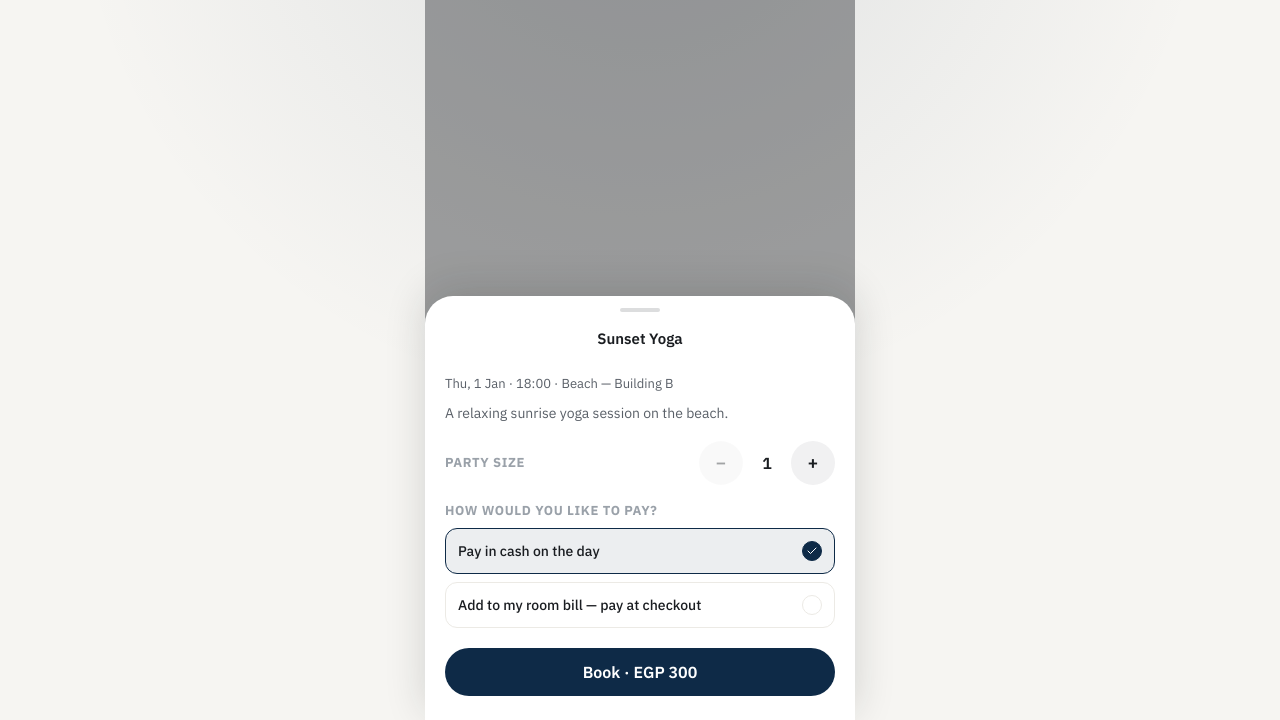
EventBookingSheet (21.4) › 409 EVENT_SOLD_OUT shows the friendly message and refreshes spots-left, not a generic error
Click the button with test id "book-event": (640, 672) x1=445 y1=648 x2=835 y2=696
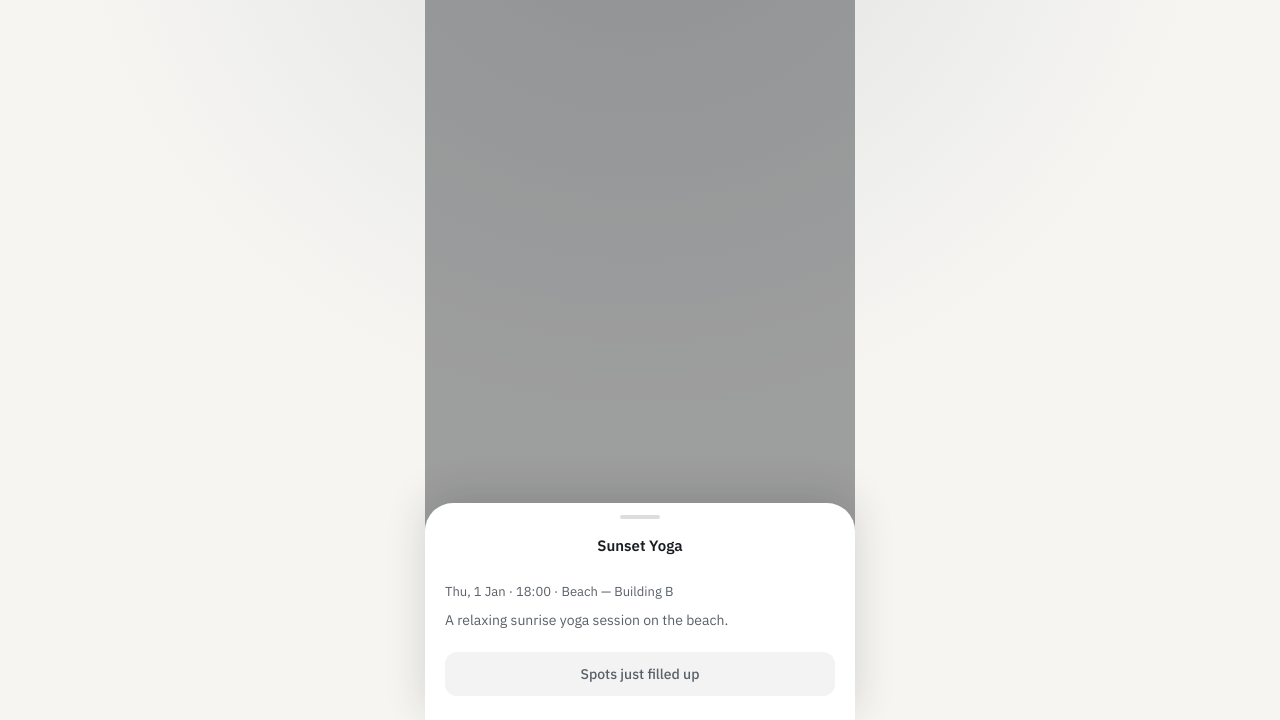
Check: the message with test id "sold-out-notice" reads "Spots just filled up", box x1=580 y1=665 x2=700 y2=683
Check: the button with test id "book-event" is gone
